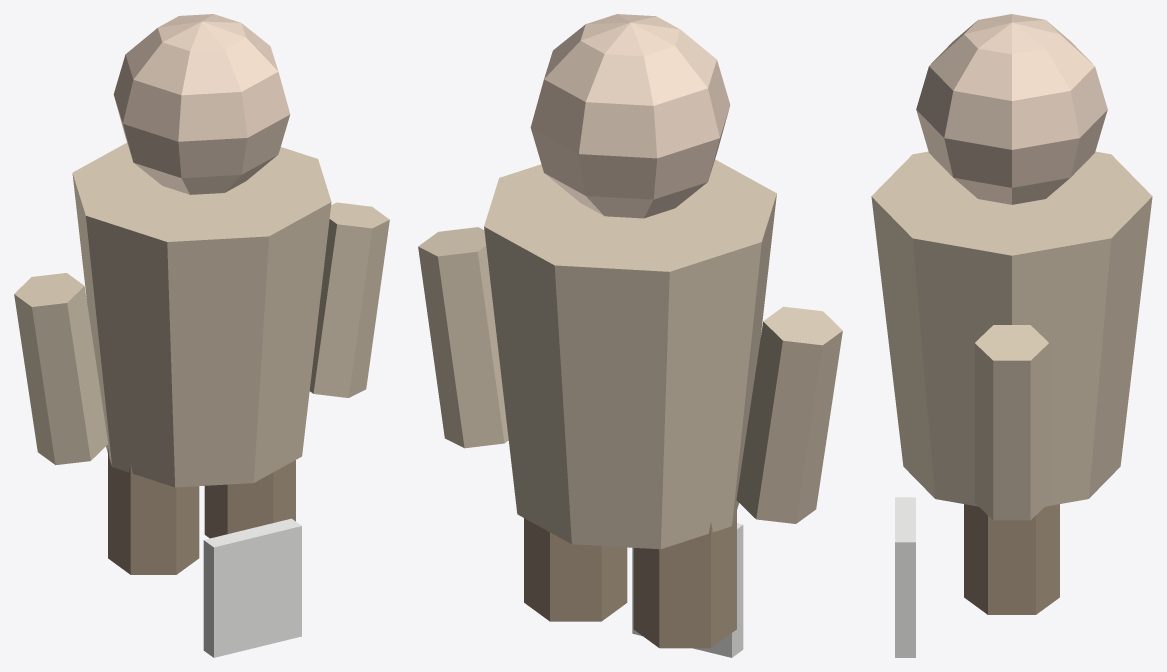
The model's file is baker.glb.
3 renders of one model, left to right at view 1: azimuth 30°, elevation 25°; view 2: azimuth 150°, elevation 25°; view 3: azimuth 270°, elevation 25°, orthographic. The views are drawn at different scales.
Visible parts, largest first — view 1: baker; view 2: baker; view 3: baker.
Part boxes in pixels (x1,y1,x2,y2): baker: [14, 14, 389, 657]; baker: [418, 14, 842, 657]; baker: [871, 14, 1152, 657].
Size of the model in its own units: 0.4068 by 0.635 by 0.264.
